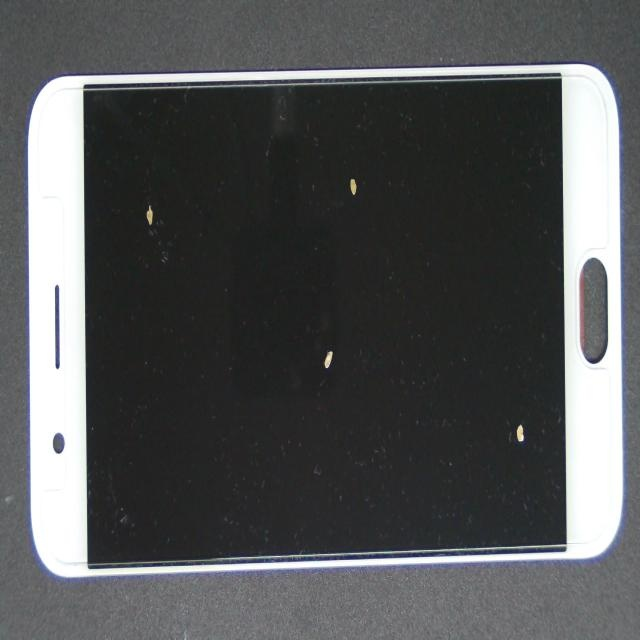stain: (267, 181, 640, 640), (176, 195, 511, 528), (179, 40, 518, 256), (74, 50, 214, 301)
